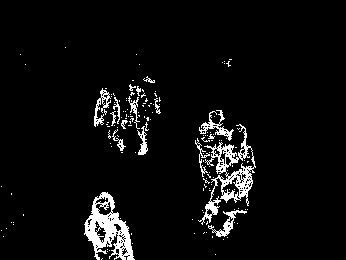person: (204, 123, 257, 240), (82, 192, 133, 260), (118, 80, 162, 154), (193, 109, 231, 191), (93, 85, 125, 154)
